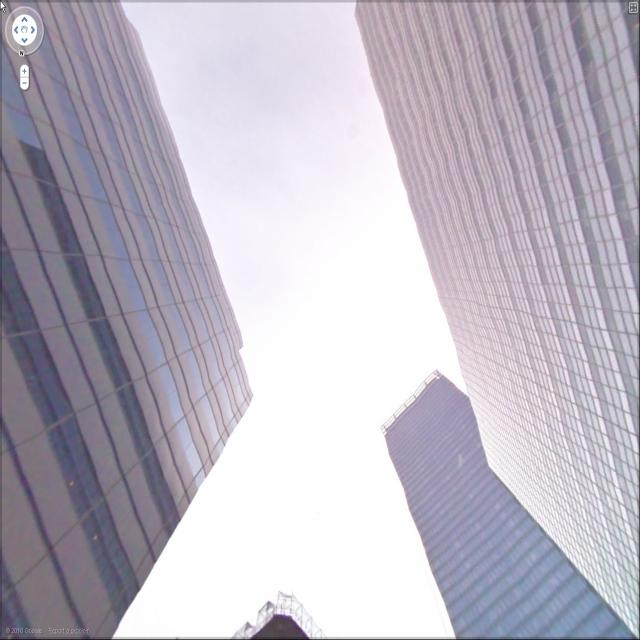b_1: (2, 4, 265, 640), (352, 1, 640, 512), (380, 373, 622, 640)
